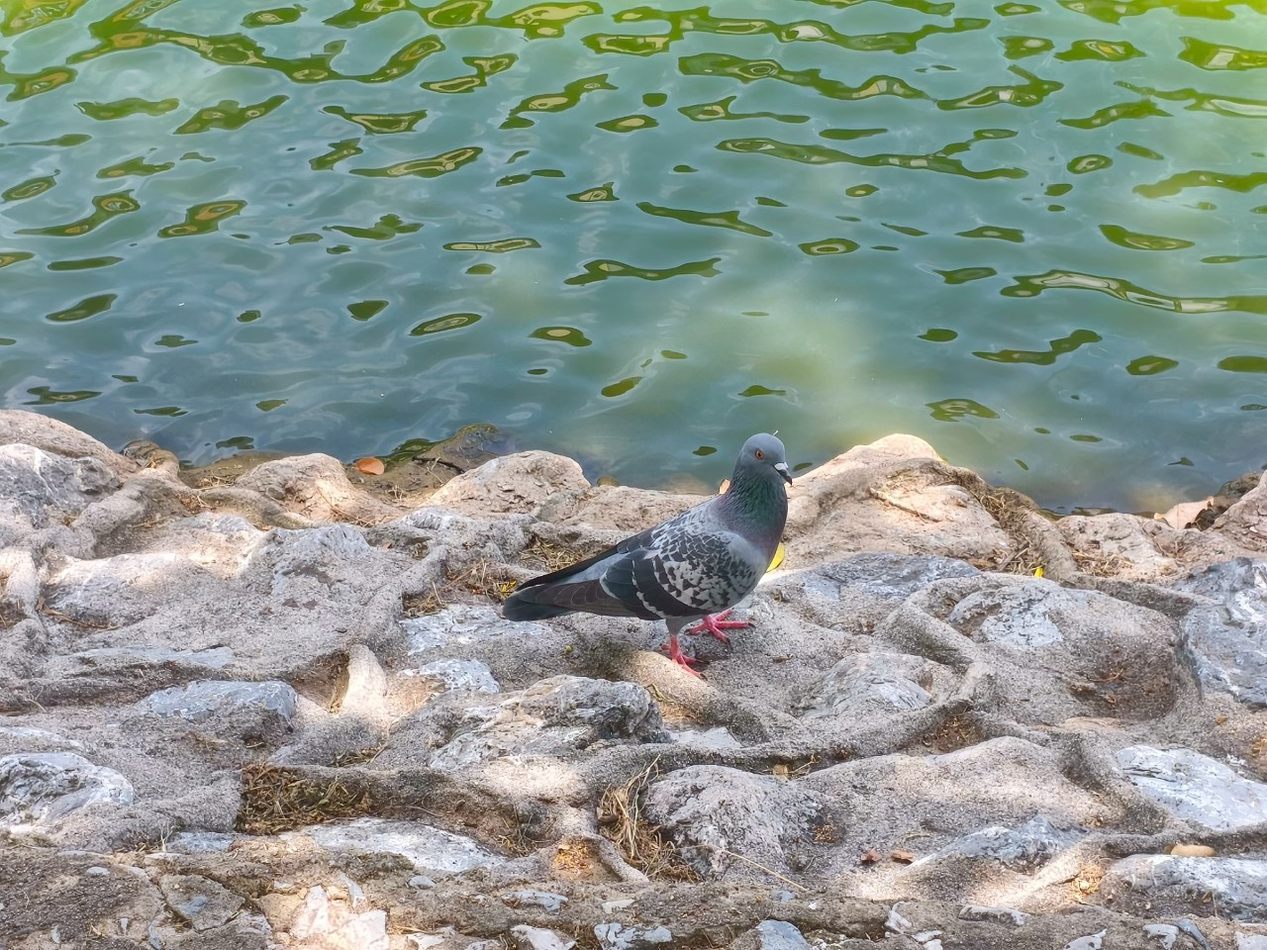Pigeon: (504, 432, 791, 670)
